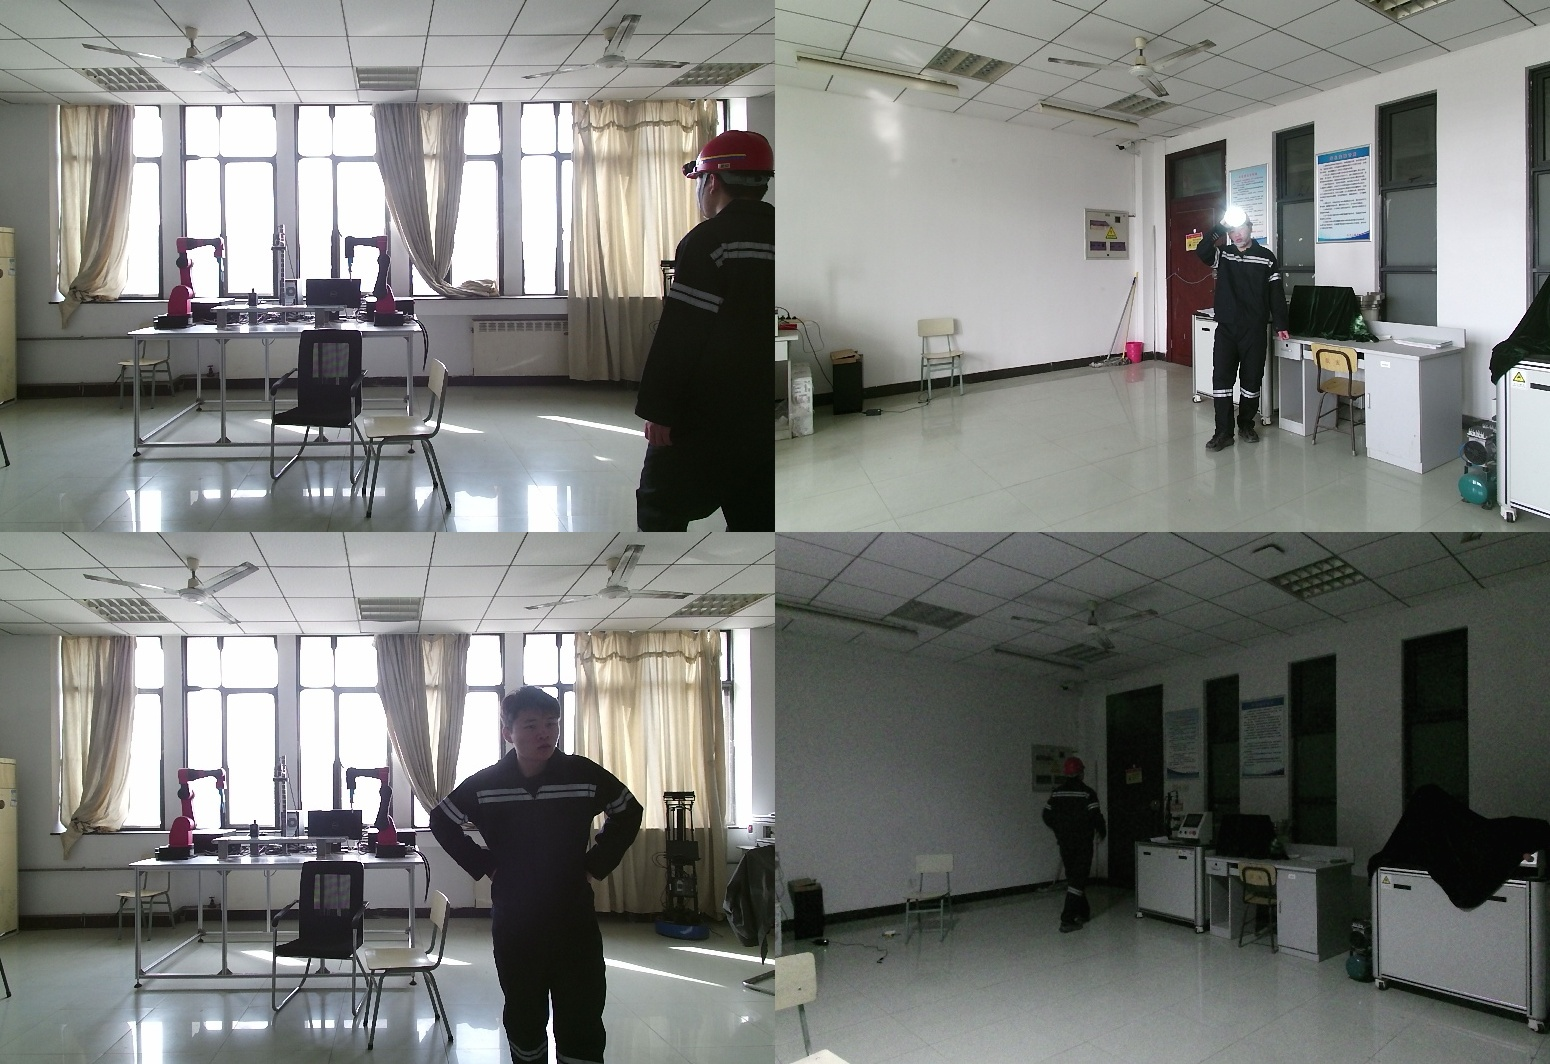person: (437, 684, 674, 1064), (636, 131, 775, 532), (1201, 207, 1296, 455), (1035, 757, 1109, 942)
